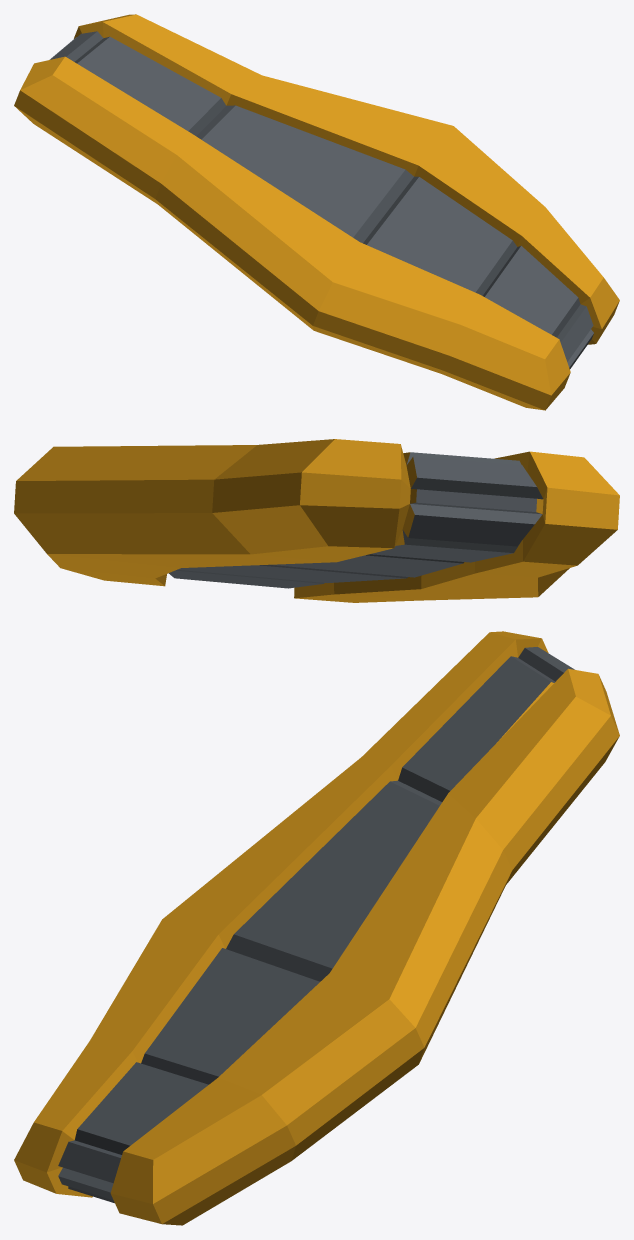
The model's file is Fighter_03_Right_Fin_Yellow.fbx.
The picture shows the model from 3 angles, top to bottom: view 1: azimuth 30°, elevation 25°; view 2: azimuth 150°, elevation 25°; view 3: azimuth 270°, elevation 25°; orthographic projection. The views are drawn at different scales.
Parts seen in each view (by area): view 1: Fighter_03_Right_Fin_Yellow; view 2: Fighter_03_Right_Fin_Yellow; view 3: Fighter_03_Right_Fin_Yellow.
Part boxes in pixels (x1,y1,x2,y2): Fighter_03_Right_Fin_Yellow: (14, 14, 619, 410); Fighter_03_Right_Fin_Yellow: (14, 439, 619, 602); Fighter_03_Right_Fin_Yellow: (14, 631, 619, 1225).
Bounding box in the file's own units: 393 × 239 × 347.
Materials: 1 (1 with a texture image).
